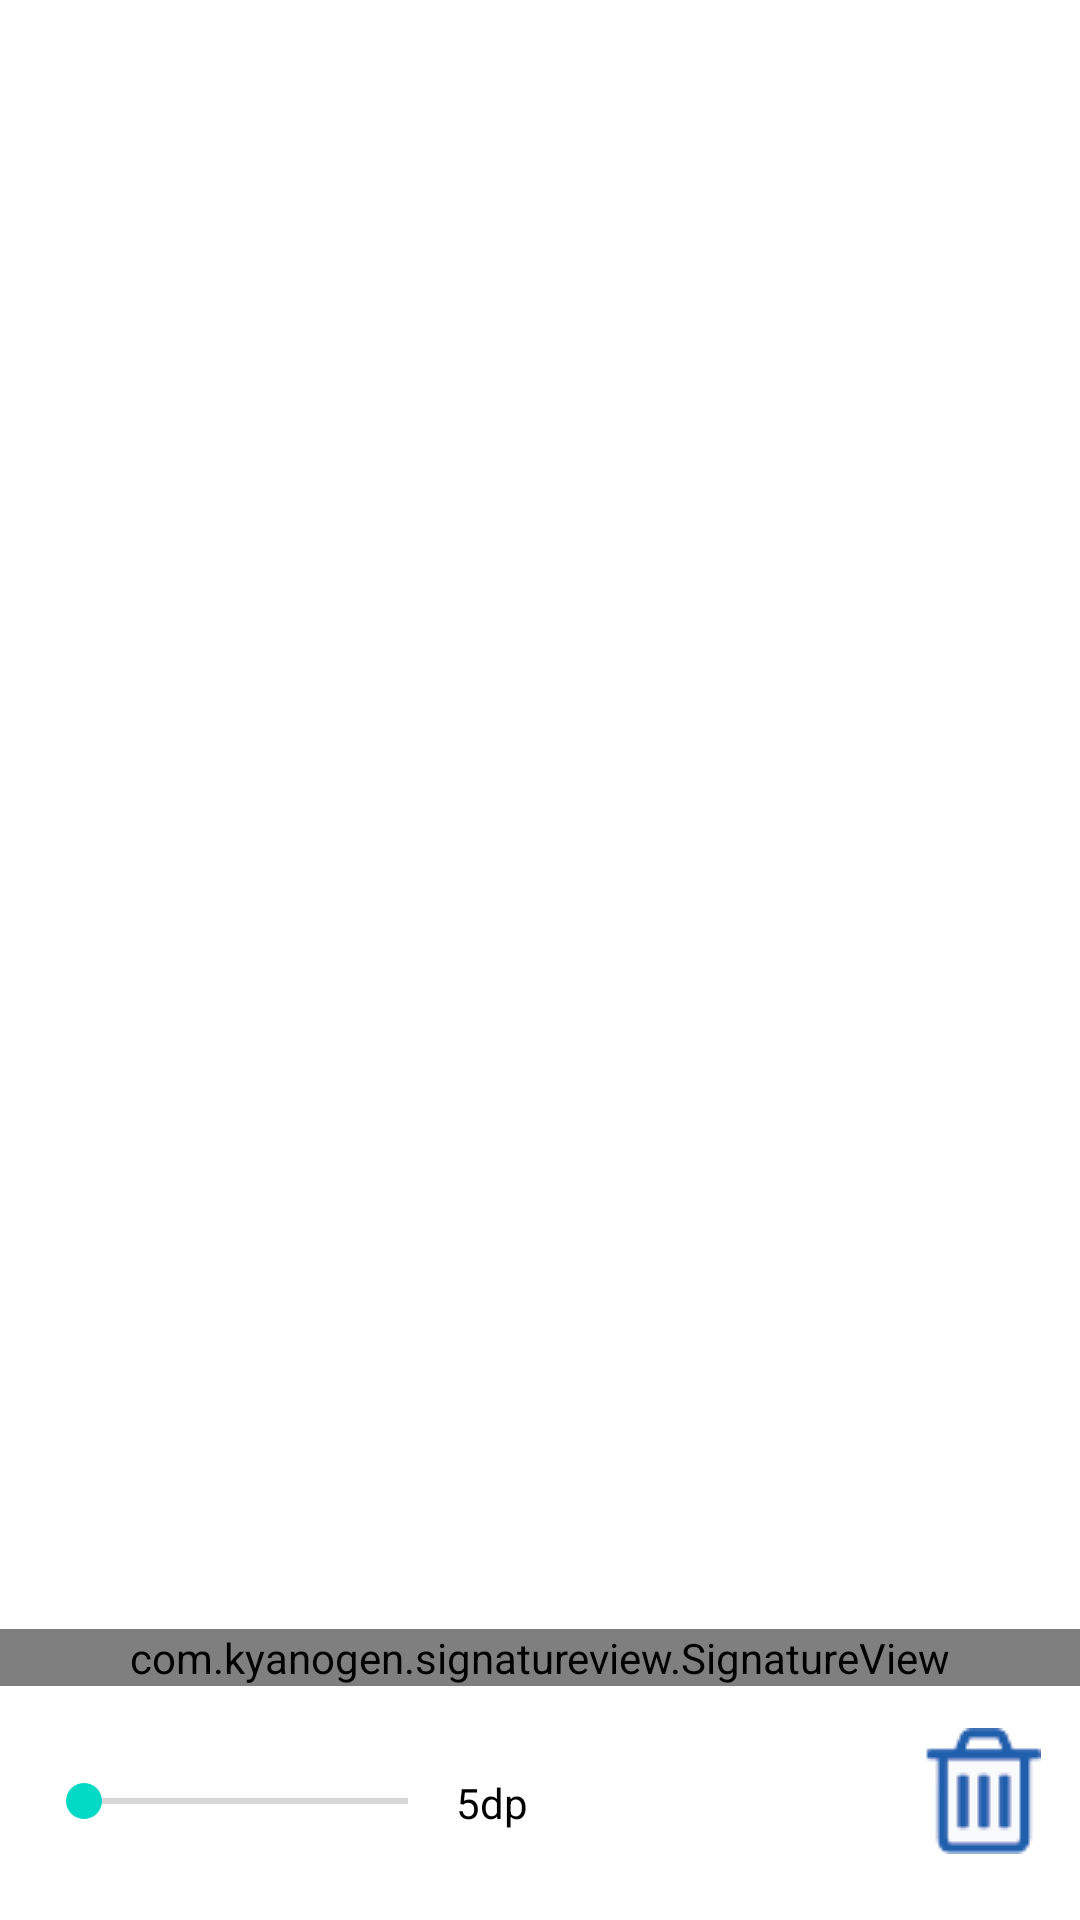

Icon bounding boxes for this 1080px×1920px phone screenshot, format (x1, y1, x2, y2):
trashcan: (926, 1728, 1041, 1854)
